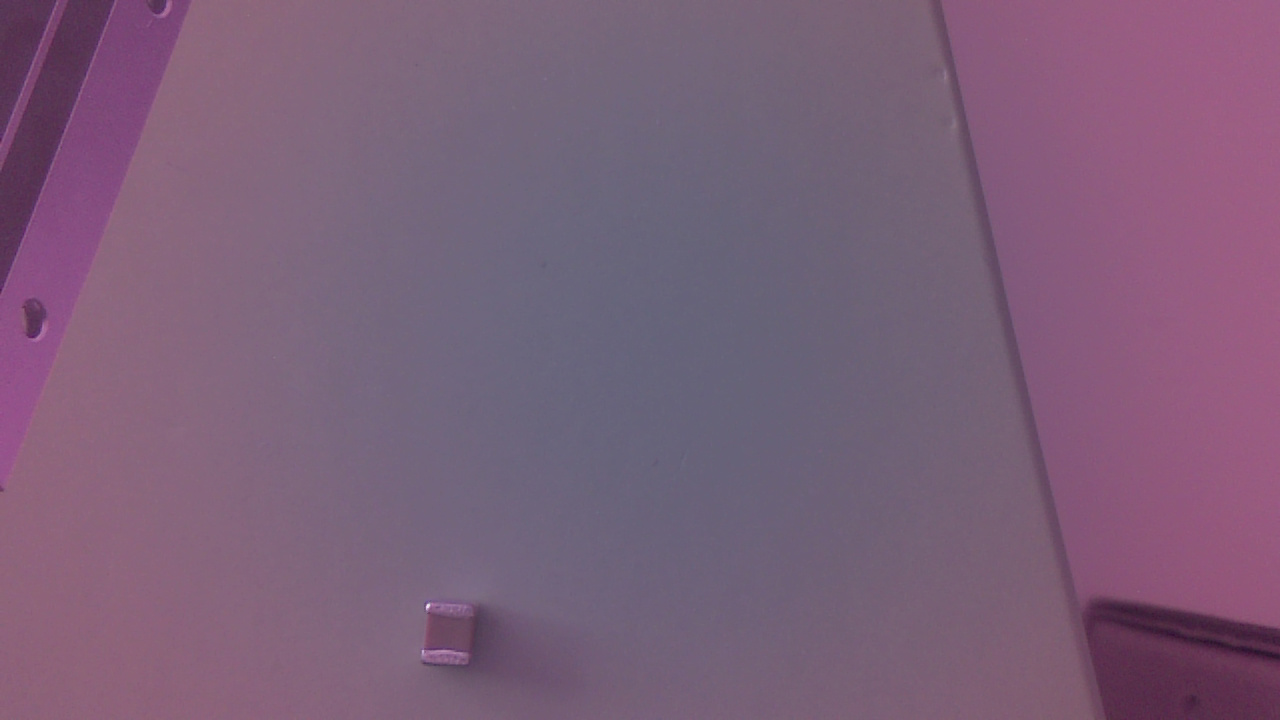Condensator: (419, 602, 491, 677)
